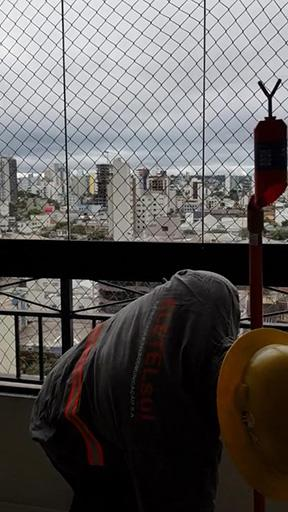Detector_Tensao_Contato: (254, 78, 288, 208)
